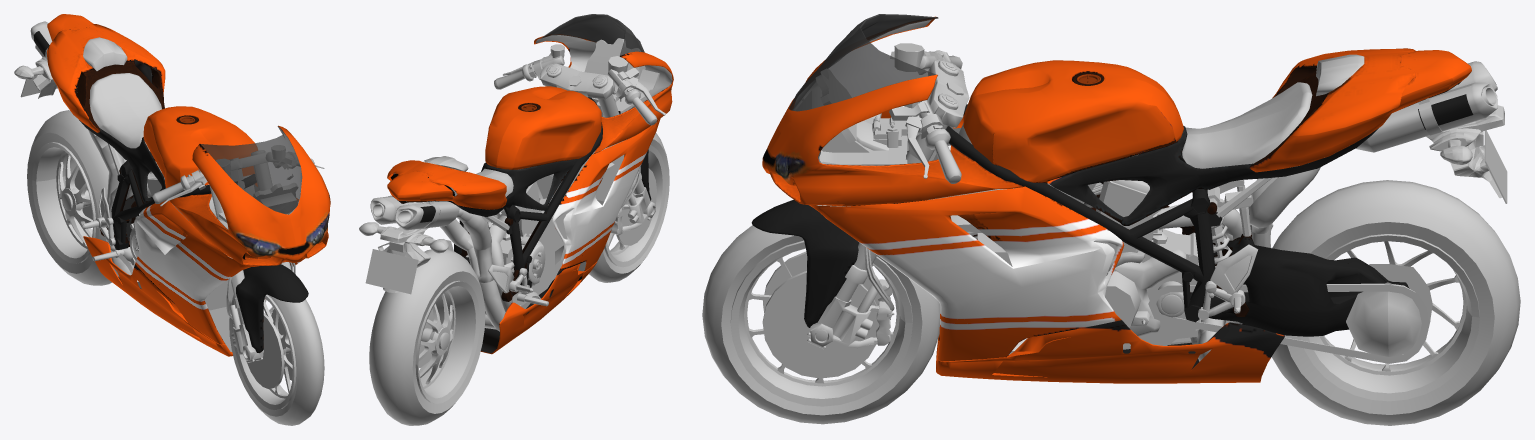
File: Motorcycle.FBX
3 views of the same model, side by side, from view 1: azimuth 30°, elevation 25°; view 2: azimuth 150°, elevation 25°; view 3: azimuth 270°, elevation 25° (orthographic). The views are drawn at different scales.
Parts seen in each view (by area): view 1: Body, body2, WheelBack, WheelFront, glass2, body5, Steer, body4, body3; view 2: Body, WheelBack, body2, WheelFront, body3, Steer, body4, glass2, glass1, body5; view 3: Body, WheelBack, body2, WheelFront, Rear, body5, glass2, Steer, body3, body4, glass1.
Part boxes in pixels (left/top/right/bottom): Body: left=34, top=14, right=330, bottom=356; body2: left=30, top=21, right=301, bottom=351; WheelBack: left=27, top=110, right=126, bottom=285; WheelFront: left=229, top=294, right=324, bottom=425; glass2: left=201, top=130, right=302, bottom=214; body5: left=226, top=262, right=308, bottom=362; Steer: left=152, top=145, right=324, bottom=206; body4: left=198, top=150, right=291, bottom=308; body3: left=14, top=44, right=57, bottom=98; Body: left=387, top=34, right=673, bottom=354; WheelBack: left=369, top=249, right=485, bottom=425; body2: left=370, top=35, right=672, bottom=331; WheelFront: left=589, top=133, right=669, bottom=282; body3: left=359, top=201, right=448, bottom=294; Steer: left=494, top=44, right=665, bottom=125; body4: left=540, top=63, right=641, bottom=181; glass2: left=544, top=14, right=644, bottom=55; glass1: left=541, top=14, right=642, bottom=55; body5: left=610, top=149, right=655, bottom=235; Body: left=762, top=16, right=1473, bottom=383; WheelBack: left=1272, top=180, right=1520, bottom=425; body2: left=792, top=19, right=1497, bottom=361; WheelFront: left=702, top=225, right=940, bottom=424; Rear: left=1148, top=233, right=1429, bottom=363; body5: left=751, top=200, right=894, bottom=349; glass2: left=789, top=14, right=935, bottom=111; Steer: left=889, top=43, right=962, bottom=183; body3: left=1426, top=105, right=1507, bottom=203; body4: left=845, top=59, right=969, bottom=284; glass1: left=791, top=14, right=938, bottom=110.
Bounding box in the file's own units: 7.76 × 12.3 × 23.01.
